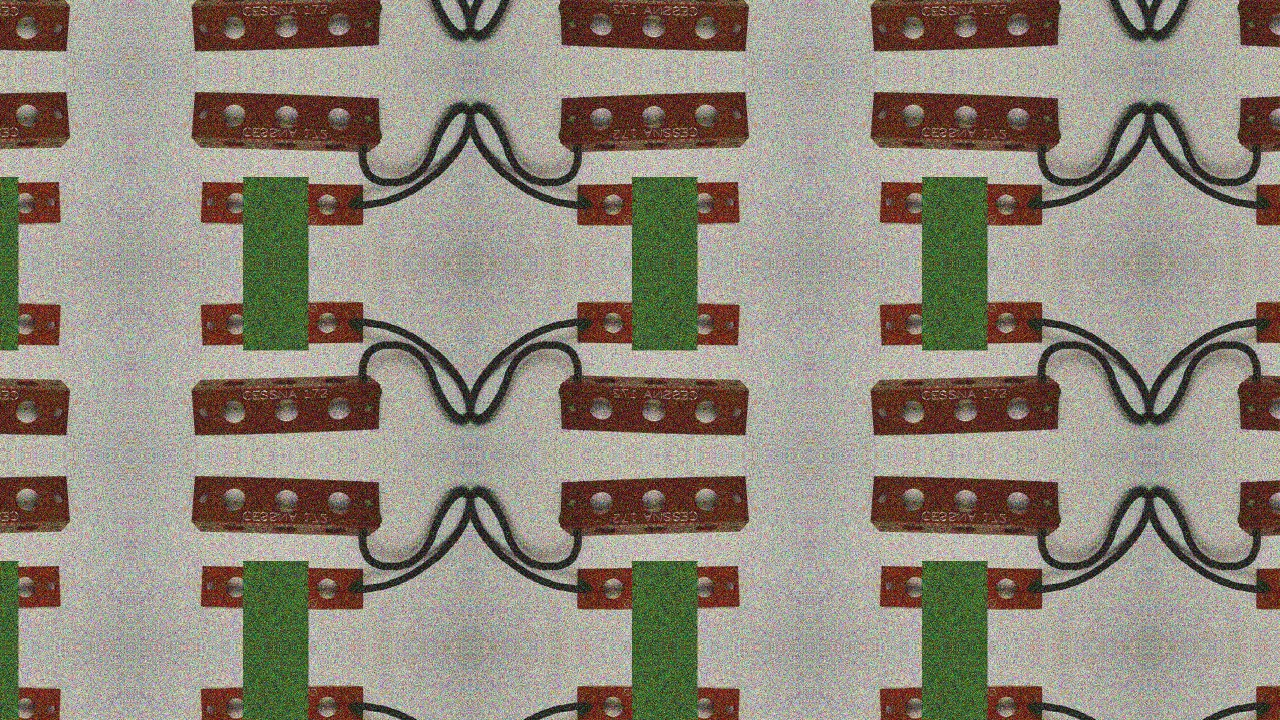chock: (189, 90, 384, 153), (556, 90, 751, 153), (869, 90, 1064, 153), (189, 374, 384, 437), (556, 374, 751, 437), (869, 374, 1064, 437), (189, 475, 384, 538), (556, 475, 751, 538), (869, 475, 1064, 538), (189, 0, 384, 52), (556, 0, 751, 52), (869, 0, 1064, 52), (197, 180, 368, 227), (572, 180, 743, 227), (877, 180, 1048, 227), (197, 300, 368, 347), (572, 300, 743, 347), (877, 300, 1048, 347), (197, 565, 368, 612), (572, 565, 743, 612), (877, 565, 1048, 612), (197, 685, 368, 720), (572, 685, 743, 720), (877, 685, 1048, 720), (0, 90, 71, 153), (0, 374, 71, 437), (0, 475, 71, 538), (0, 0, 71, 52), (0, 180, 63, 227), (0, 300, 63, 347), (0, 565, 63, 612), (1236, 90, 1280, 153), (1236, 374, 1280, 437), (1236, 475, 1280, 538), (1236, 0, 1280, 52), (0, 685, 63, 720), (1252, 180, 1280, 227), (1252, 300, 1280, 347), (1252, 565, 1280, 612), (1252, 685, 1280, 720)
